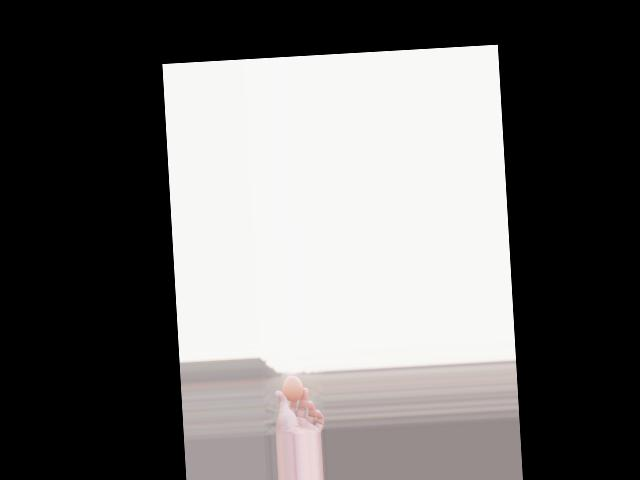egg: (282, 375, 304, 401)
